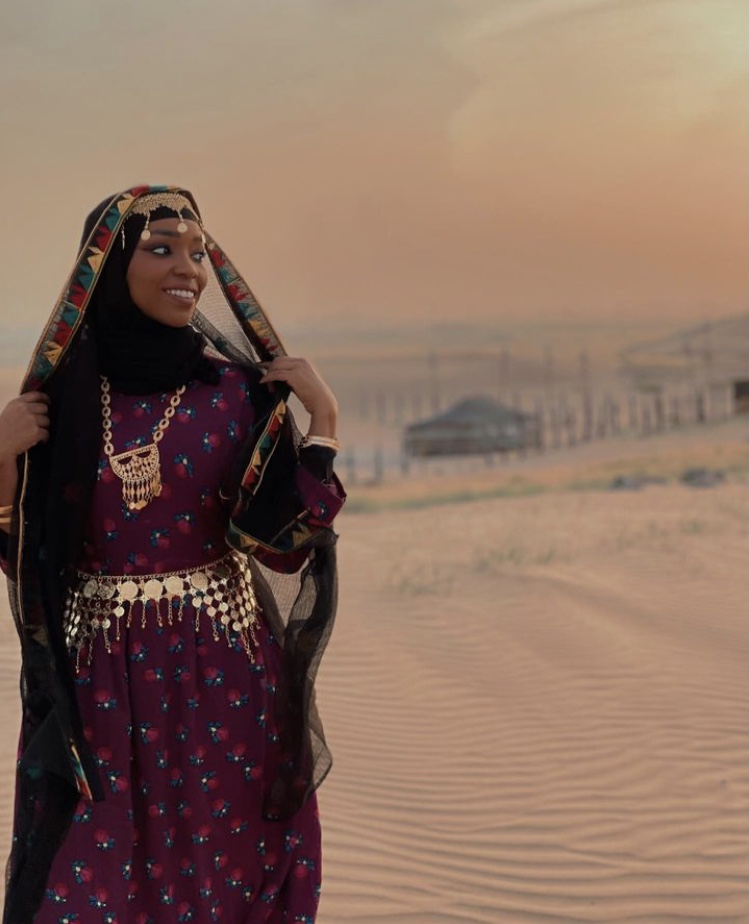Saudi_Founding_Day: (1, 181, 348, 924)
